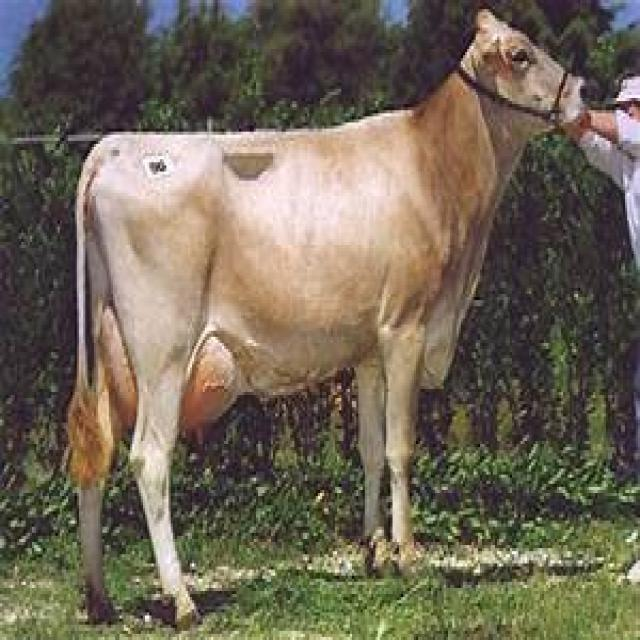cow: (62, 9, 602, 631)
